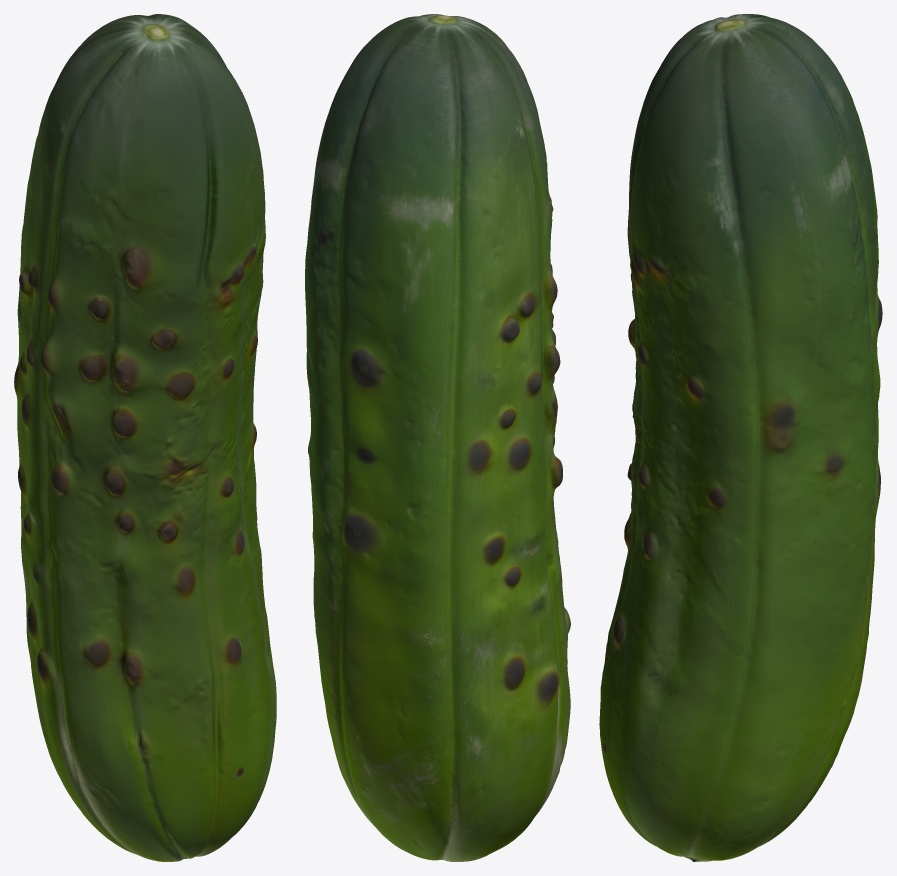
The model's file is cucumberA.glb.
3 views of the same model, side by side, from view 1: azimuth 30°, elevation 25°; view 2: azimuth 150°, elevation 25°; view 3: azimuth 270°, elevation 25° (orthographic). The views are drawn at different scales.
Bounding box in the file's own units: 0.5516 × 2 × 0.6154.
Materials: 1 (1 with a texture image).
